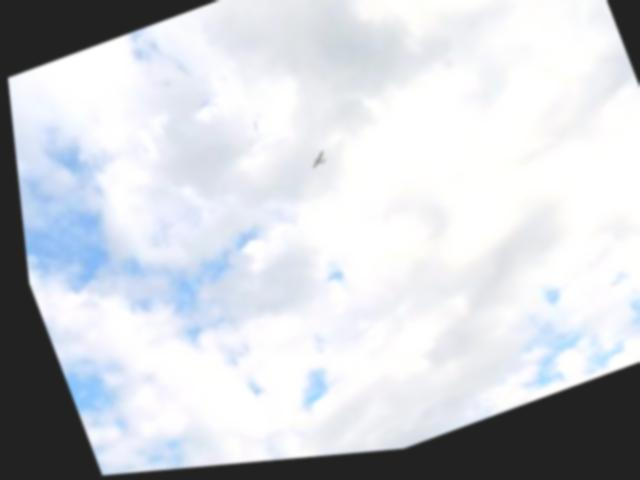uav: (301, 151, 329, 178)
